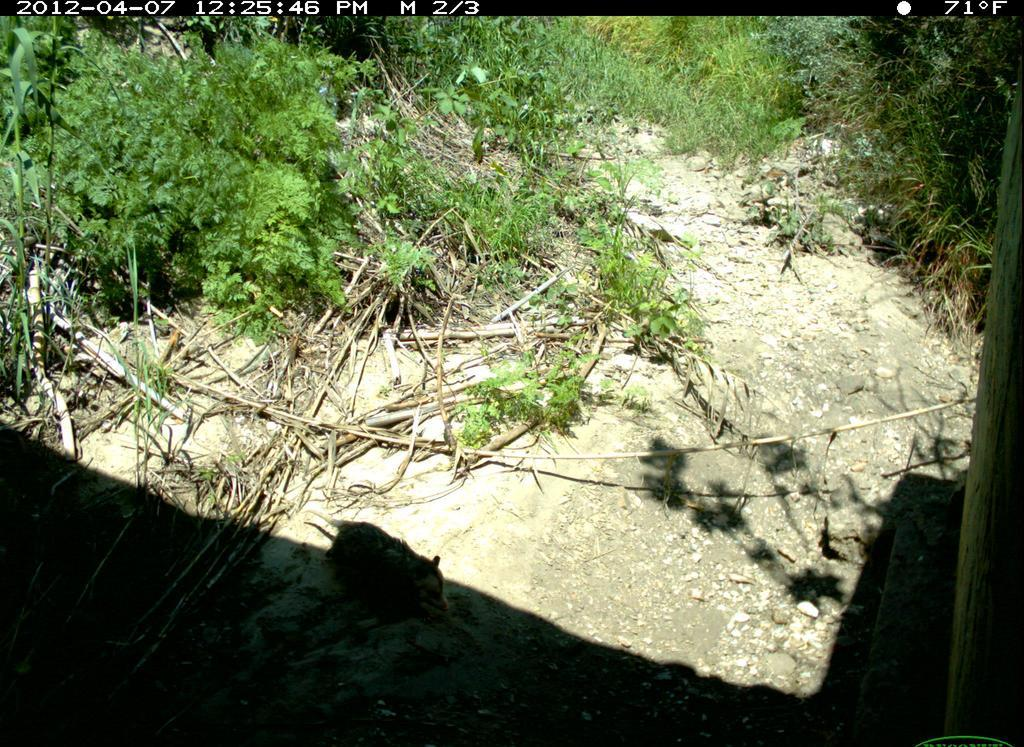opossum: (302, 504, 454, 630)
